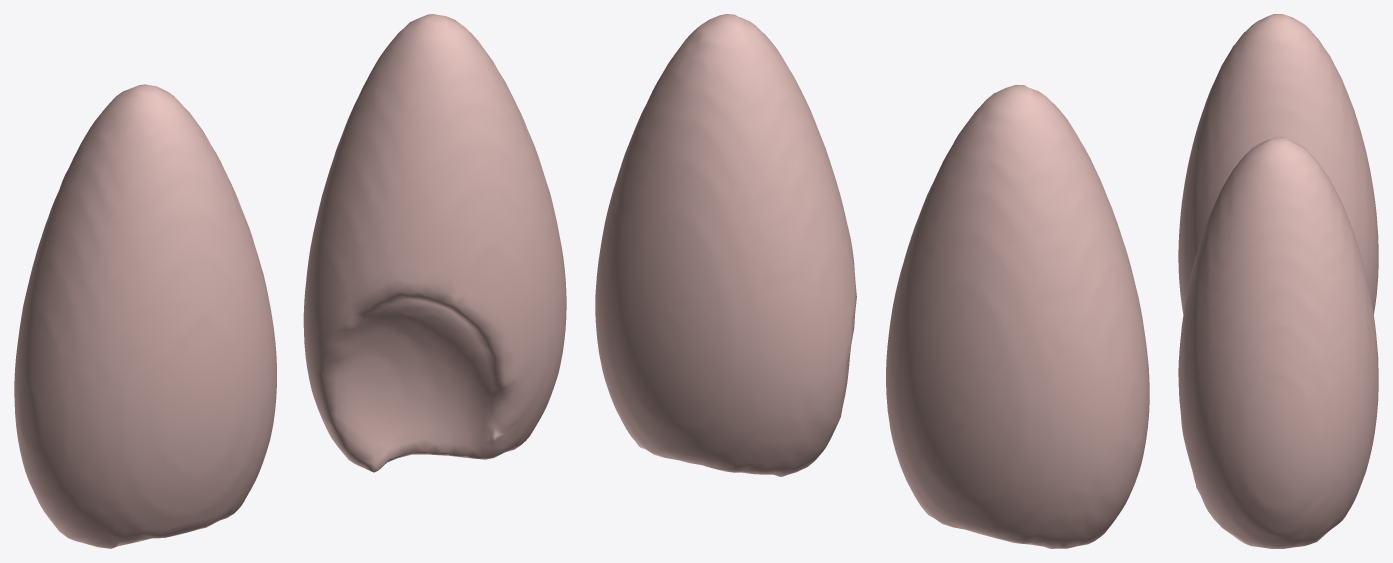
File: organ-lung.glb
3 views of the same model, side by side, from view 1: azimuth 30°, elevation 25°; view 2: azimuth 150°, elevation 25°; view 3: azimuth 270°, elevation 25° (orthographic). The views are drawn at different scales.
Visible parts, largest first — view 1: world; view 2: world; view 3: world.
Boxes of the visible parts, x1,y1,x2,y2 form: world: [14, 14, 566, 548]; world: [595, 14, 1149, 548]; world: [1178, 14, 1378, 548].
Bounding box in the file's own units: 0.5272 × 0.4129 × 0.199.
